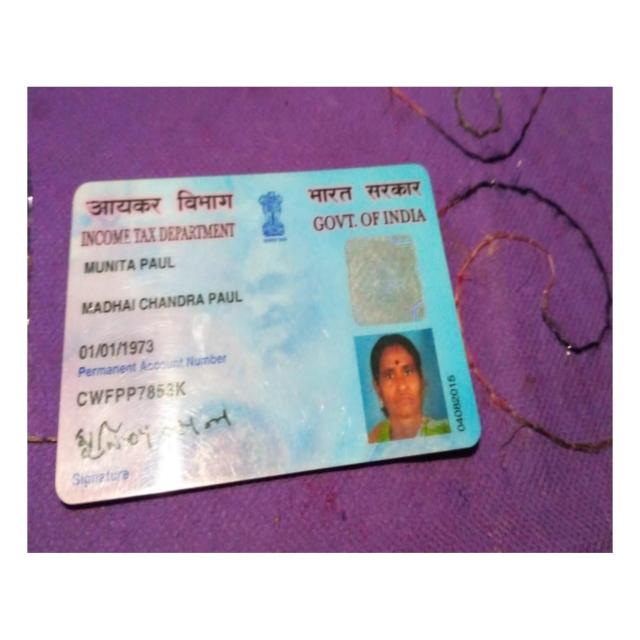pan_card: (59, 167, 480, 500)
